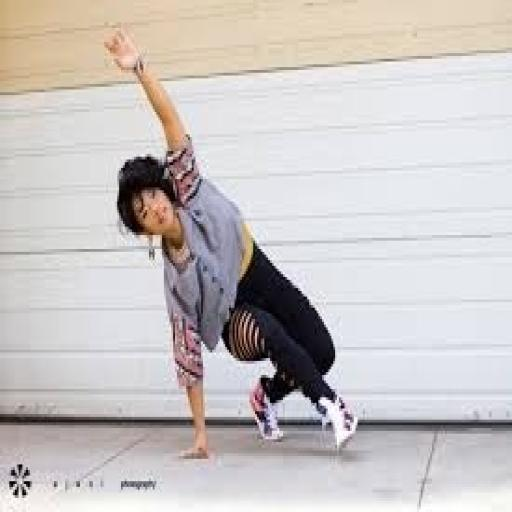dancing: (101, 22, 361, 462)
